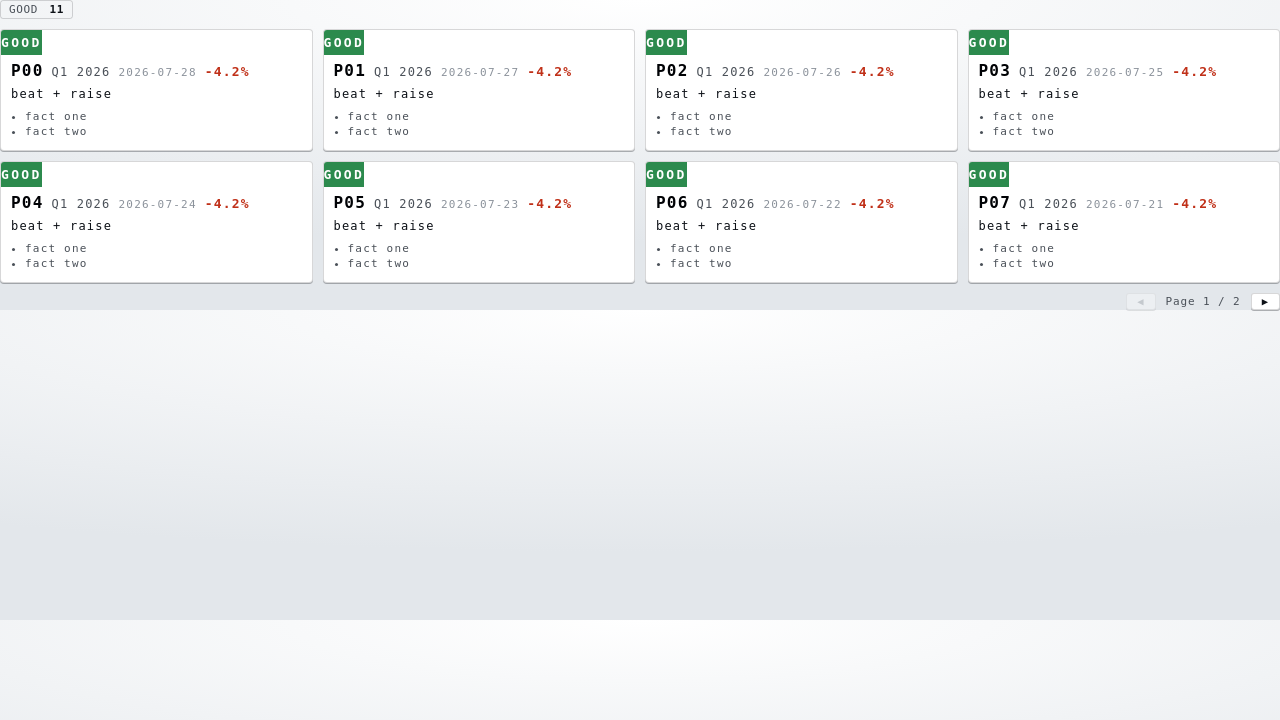
Scenario: ScorecardBook › paginates 8 per page with page-turn chrome, newest page first
This screenshot has width=1280, height=720.
Check: the text "Page 1 / 2" is shown, box [1166,295,1241,308]
Check: the text "P00" is shown, box [11,61,44,80]
Click the button titled "Older prints": (1265, 302) [1251,293,1279,310]
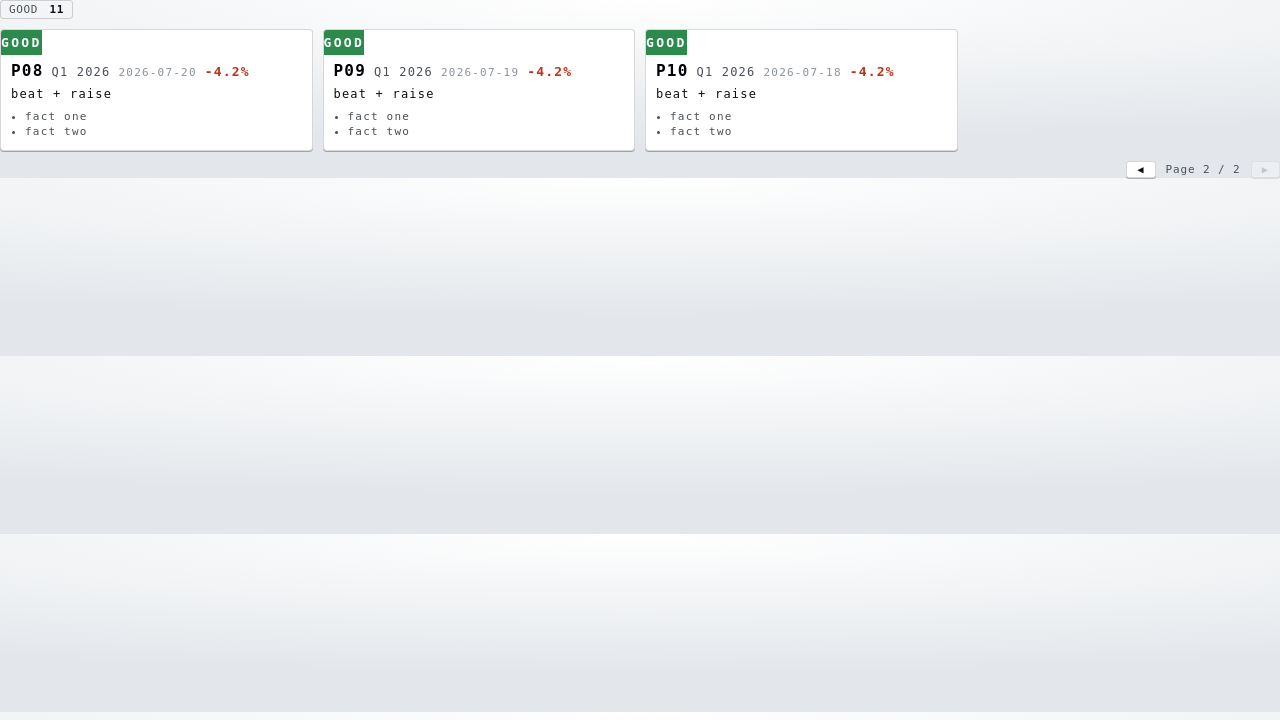
Check: the text "Page 2 / 2" is shown, box [1166,163,1241,176]
Check: the text "P08" is shown, box [11,61,44,80]
Check: the button "P00" is gone
Click the button titled "Newer prints": (1141, 169) [1126,161,1156,178]
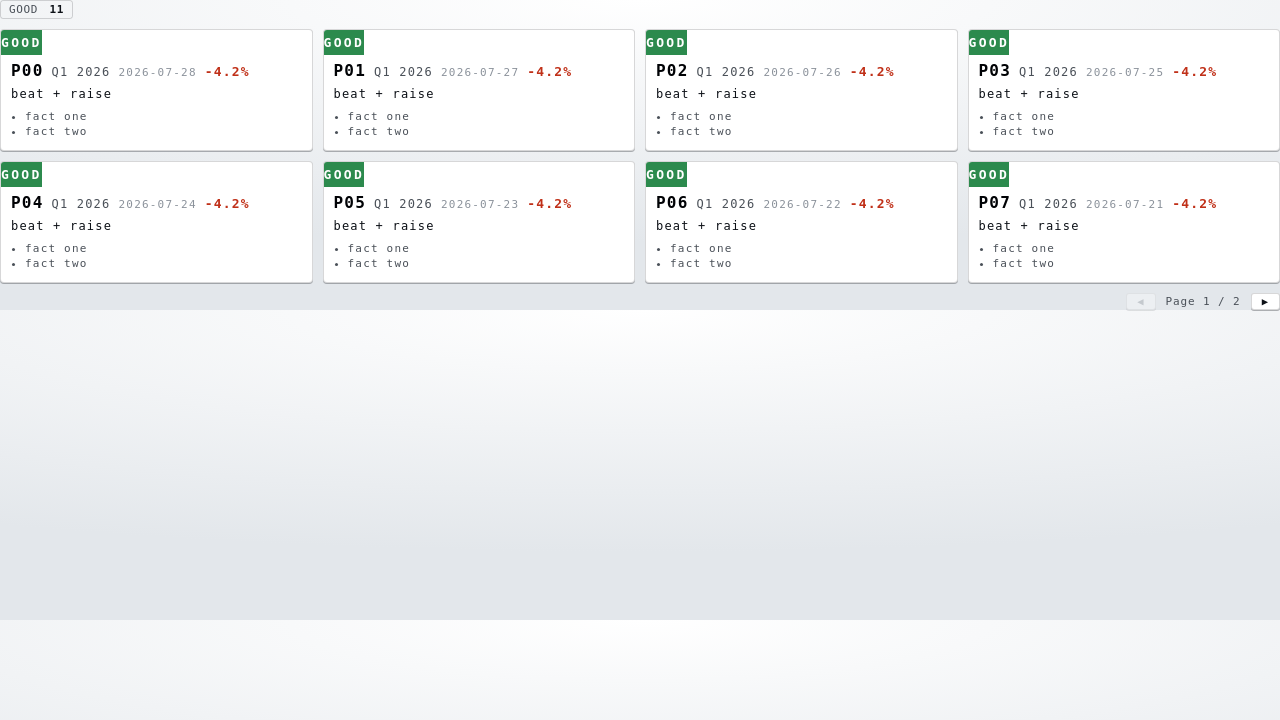
Check: the text "Page 1 / 2" is shown, box [1166,295,1241,308]
Check: the button titled "Newer prints" is disabled, box [1126,293,1156,310]
